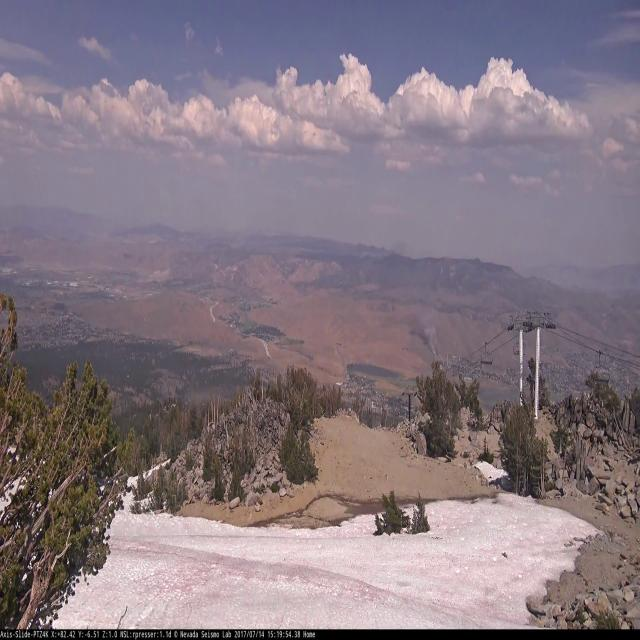smoke: (380, 242, 442, 362)
